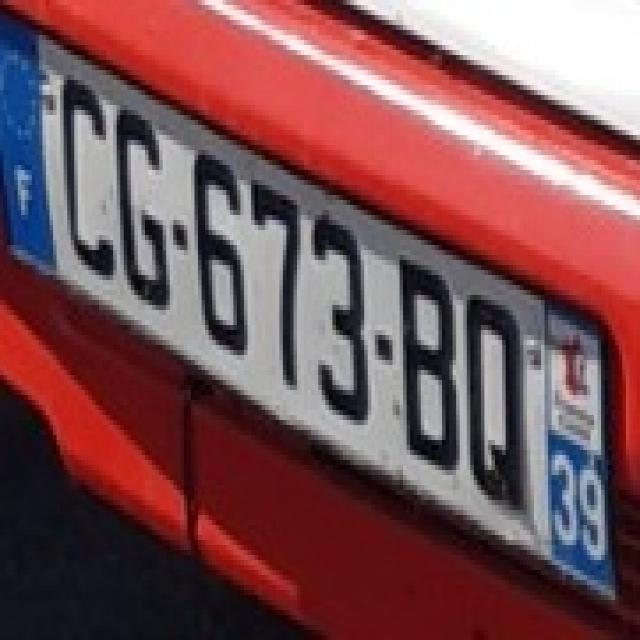EU: (0, 0, 614, 604)
France: (0, 3, 56, 278)
